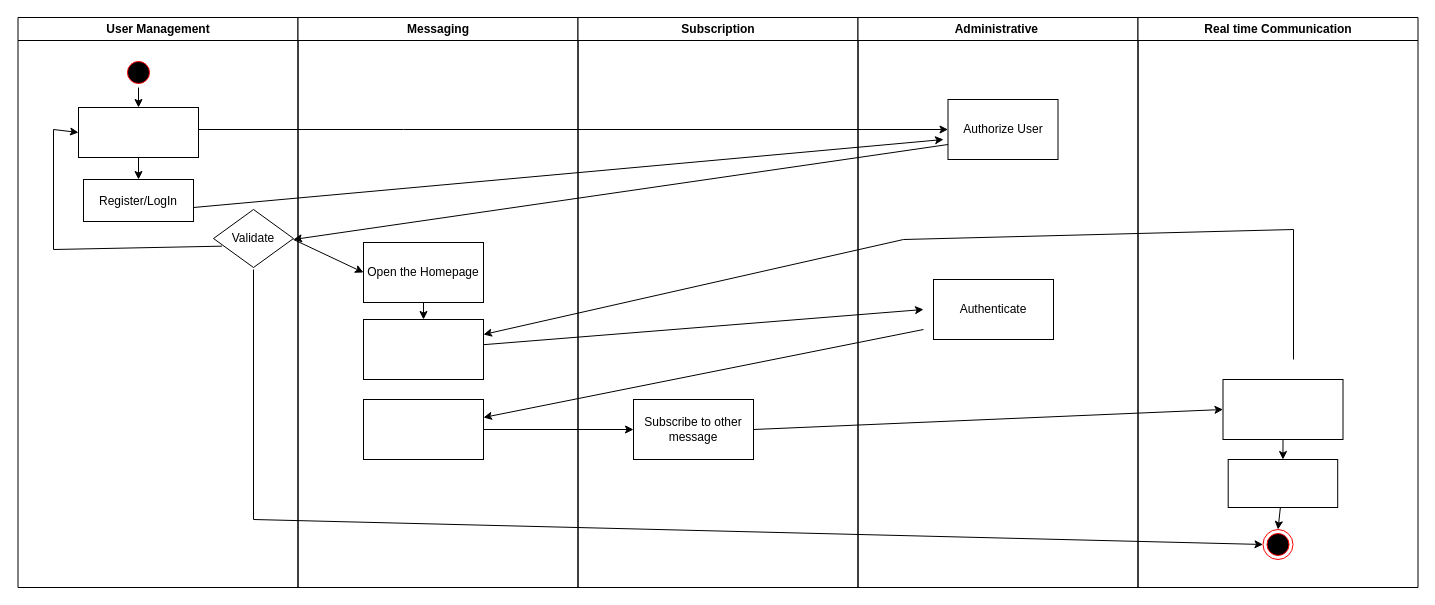
Some shapes in this 1435 by 605 pixel diagram are drawn without their labels. The shapes that lost their labels are listed below. From the top down, each one's centre as x and y in pixels, then its label:
the point at 138,132: User Action
the point at 423,349: Create/Post Message
the point at 423,429: View and Interact with posted message
the point at 1282,409: Real Time Communication to deliver the message
the point at 1282,483: Log Out
